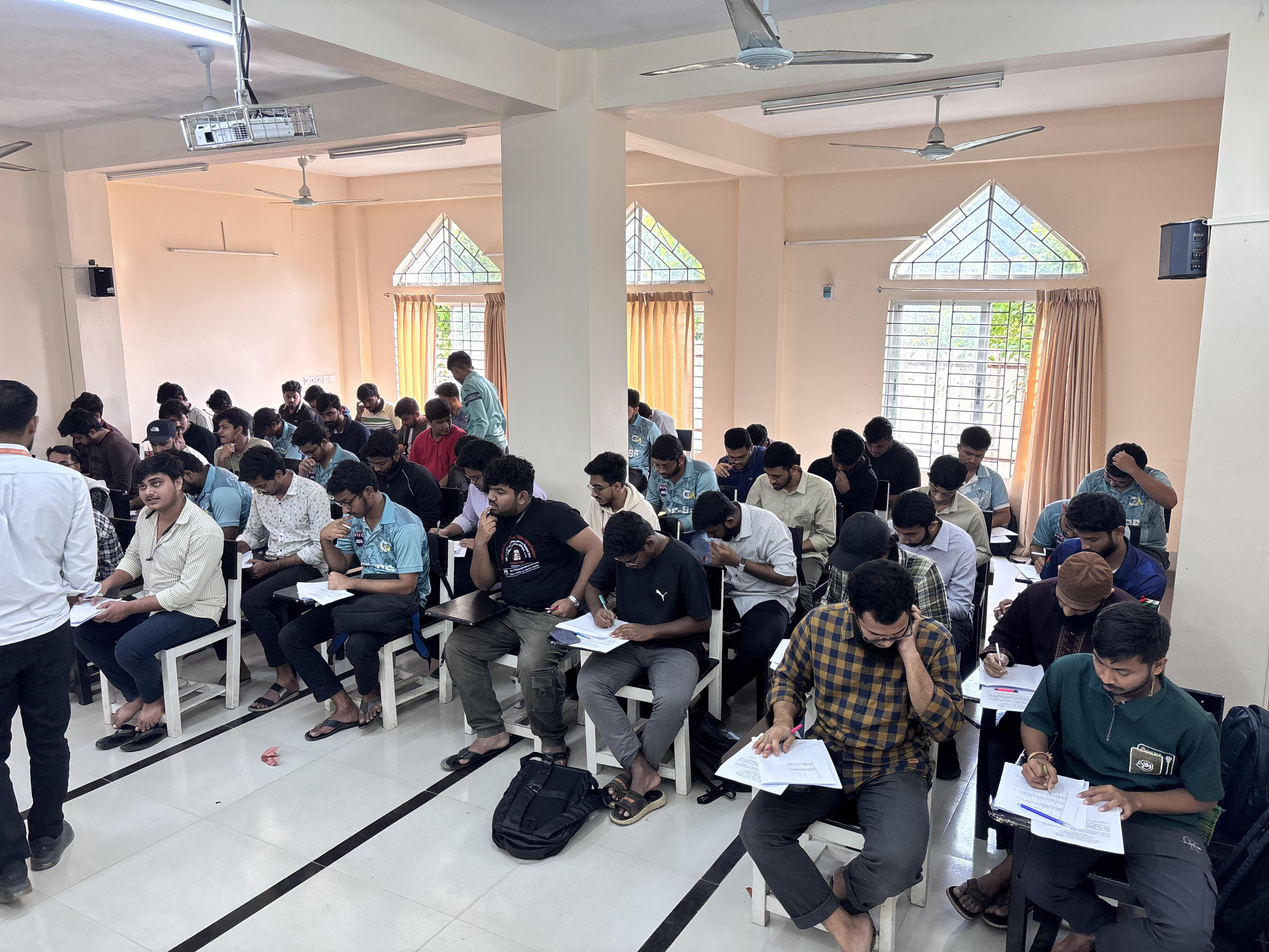copying: (415, 391, 468, 481), (136, 409, 178, 465), (276, 373, 305, 413)
invigilator: (0, 368, 86, 929)
no_cheating: (982, 597, 1221, 921), (755, 555, 951, 872), (566, 508, 713, 711), (108, 451, 228, 696), (299, 463, 415, 679), (230, 439, 323, 611), (979, 553, 1113, 671), (688, 488, 792, 583), (50, 390, 140, 496), (746, 440, 836, 541), (881, 486, 976, 579), (1052, 486, 1149, 575), (560, 435, 639, 536), (1074, 429, 1166, 504), (812, 425, 884, 505), (354, 421, 421, 504), (286, 415, 350, 495), (945, 417, 1019, 483), (915, 453, 985, 513), (207, 401, 263, 474), (645, 429, 698, 504), (381, 389, 434, 462), (712, 417, 769, 484), (861, 409, 917, 470), (343, 373, 398, 435)
side_talking: (462, 445, 575, 712), (441, 341, 509, 470)
suspicious_moving: (305, 389, 361, 440)
